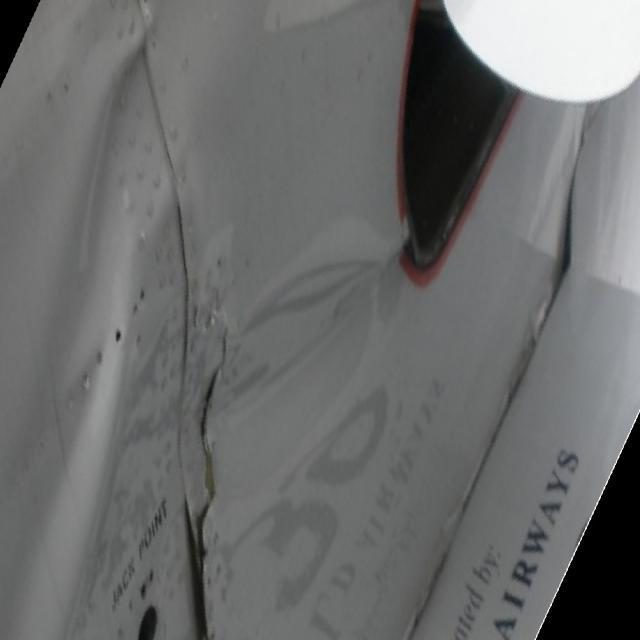crack: (187, 326, 237, 580)
